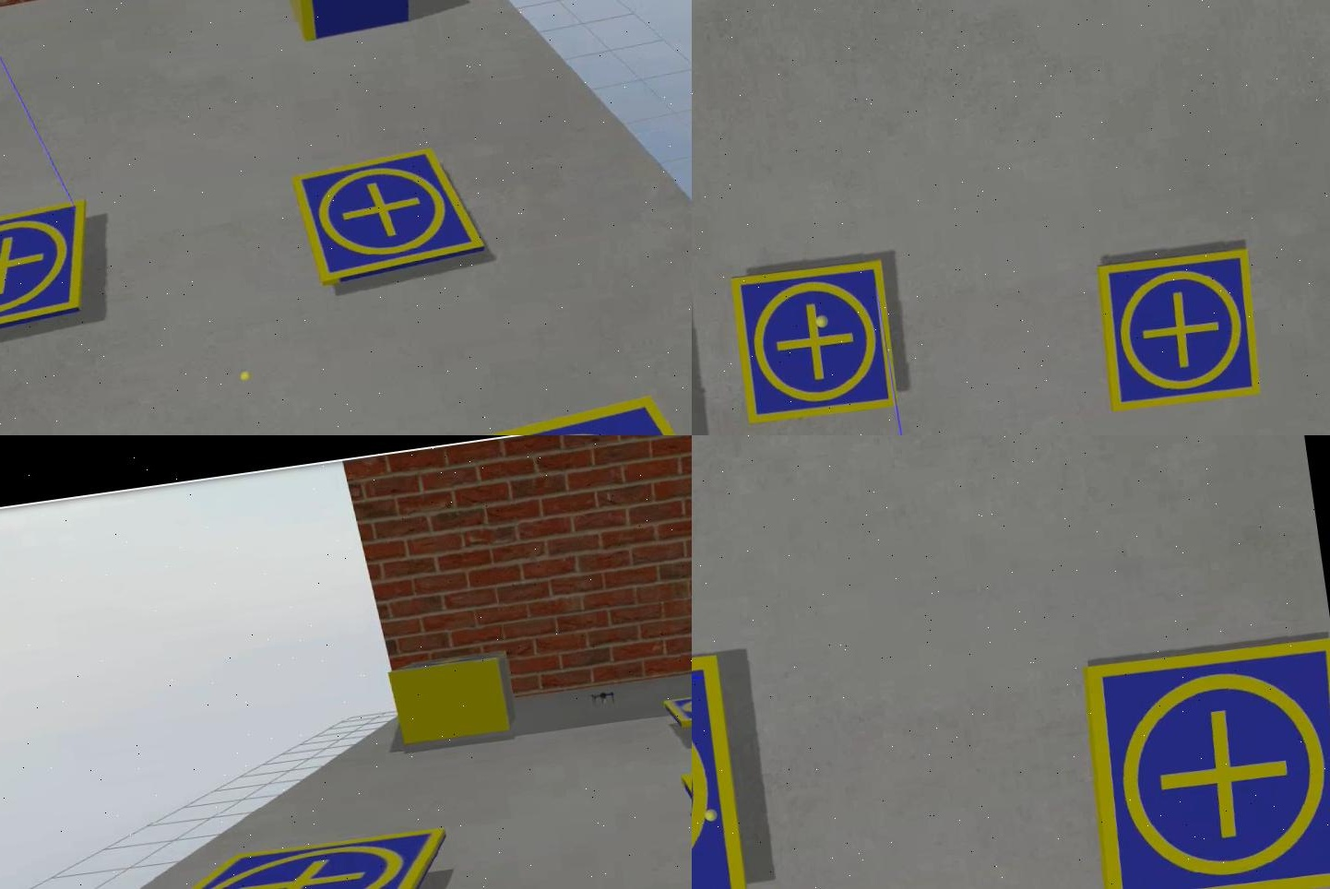small_base: (1071, 631, 1328, 889), (1087, 245, 1266, 419), (722, 256, 901, 430), (291, 142, 487, 290), (79, 824, 461, 889), (0, 199, 101, 354), (657, 680, 690, 738)
